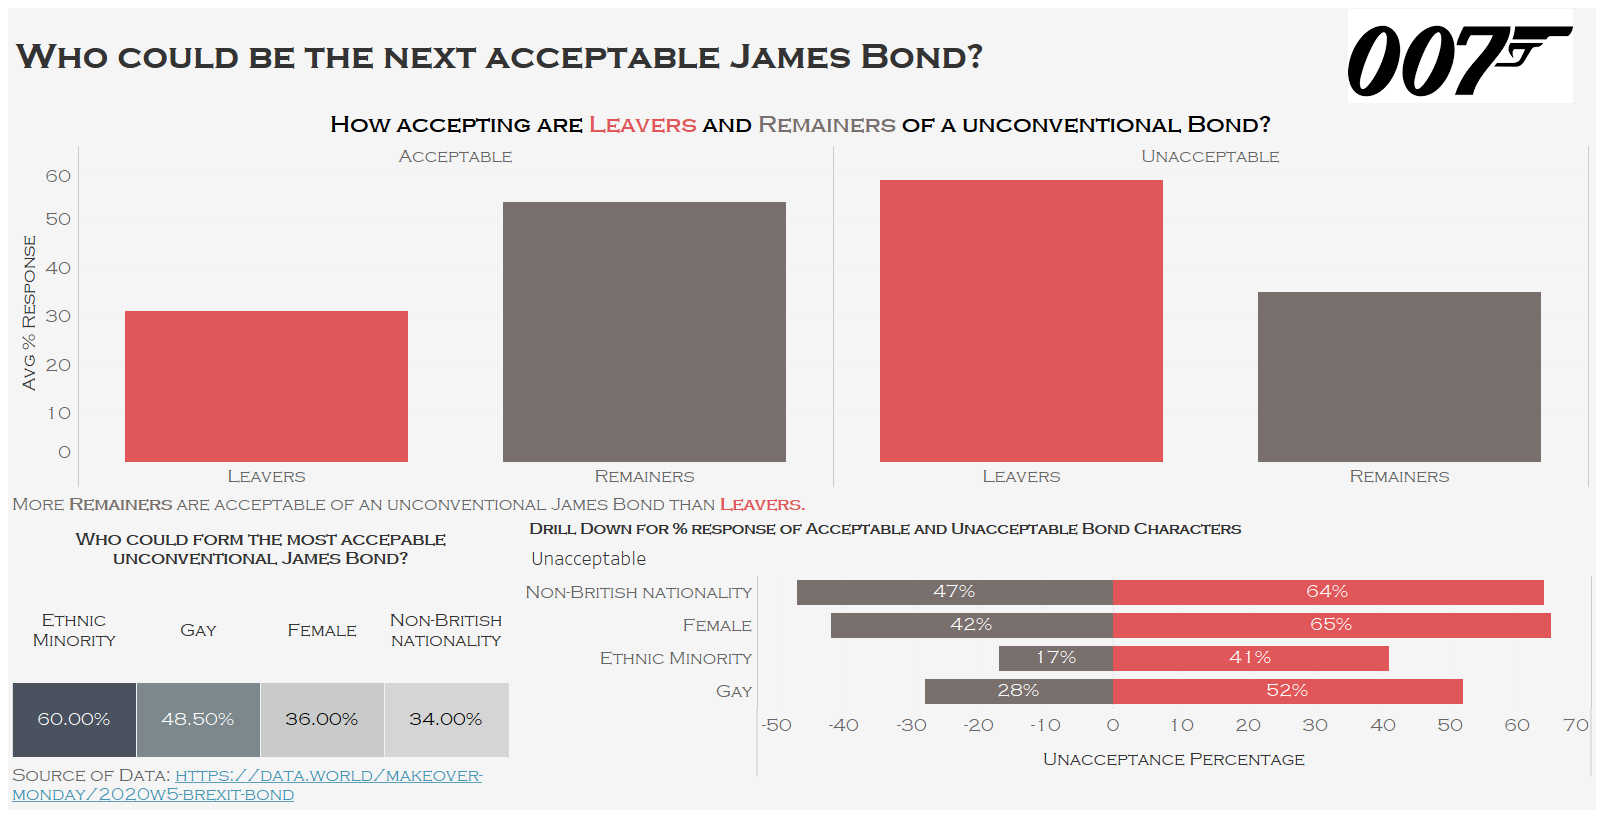

The page's visual inventory and layout, read from the dashboard file:
{"tool":"tableau","page":{"name":"SrishtiSaha_dashboard_makeovermonday","canvas":[1000,1000],"units":"permille","ordinal":0},"visuals":[{"type":"title","box":[5,9.8,990,118.6]},{"type":"image","param":"Image/download.png","box":[823.6,11,173.3,114.9]},{"type":"worksheet","title":"Overview","mark":"Automatic","rows":["Percent Response"],"cols":["Response","Response_category"],"box":[5,128.4,990,506.1]},{"type":"worksheet","title":"Category acceptance","mark":"Square","rows":["Response"],"cols":["Category"],"box":[5,634.5,314.8,355.8]},{"type":"parameter","param":"[Parameters].[Parameter 1]","box":[319.8,634.5,675.2,63.6]},{"type":"worksheet","title":"Drilldown accept","mark":"Bar","rows":["Category"],"cols":["Response","Calculation_437130654266523648"],"box":[319.8,698,675.2,1.2]},{"type":"worksheet","title":"Drilldown unaccept","mark":"Bar","rows":["Category"],"cols":["Response","Calculation_437130654266523648"],"box":[319.8,699.3,675.2,255.5]}]}

Visuals, with their boxes on the dashboard's canvas, which has no fixed pixel size, in thousandths of its width and height (x1, y1, x2, y2). These are canvas units, not pixel positions in the 1604x818 screenshot, which may show the page scaled, cropped or inside an application window:
title: select_region(5, 10, 995, 128)
image: select_region(824, 11, 997, 126)
"Overview" worksheet: select_region(5, 128, 995, 634)
"Category acceptance" worksheet (Square marks): select_region(5, 634, 320, 990)
parameter: select_region(320, 634, 995, 698)
"Drilldown accept" worksheet (Bar marks): select_region(320, 698, 995, 699)
"Drilldown unaccept" worksheet (Bar marks): select_region(320, 699, 995, 955)
